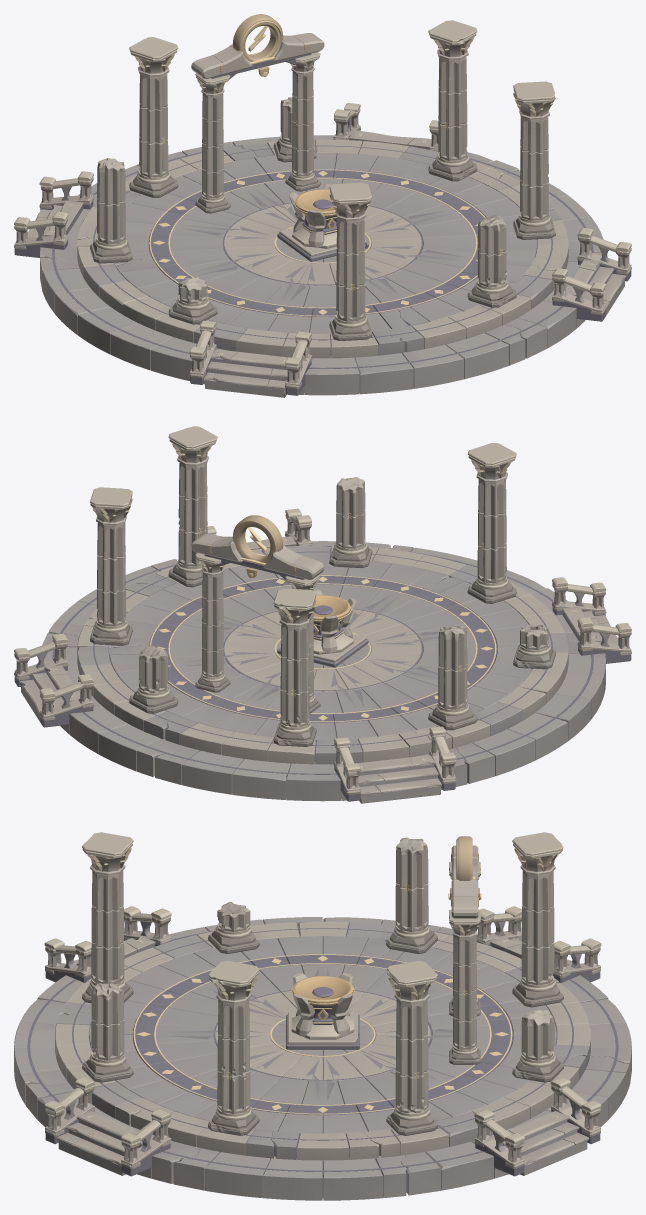
The model's file is bd_shrine_storm.glb.
The picture shows the model from 3 angles, top to bottom: view 1: azimuth 30°, elevation 25°; view 2: azimuth 150°, elevation 25°; view 3: azimuth 270°, elevation 25°; orthographic projection. The views are drawn at different scales.
Parts seen in each view (by area): view 1: BD_shrine_storm__body; view 2: BD_shrine_storm__body; view 3: BD_shrine_storm__body.
Boxes of the visible parts, x1,y1,x2,y2 form: BD_shrine_storm__body: (14, 14, 631, 397); BD_shrine_storm__body: (14, 426, 631, 803); BD_shrine_storm__body: (14, 832, 631, 1200).
Size of the model in its own units: 21.76 by 10.25 by 21.76.
